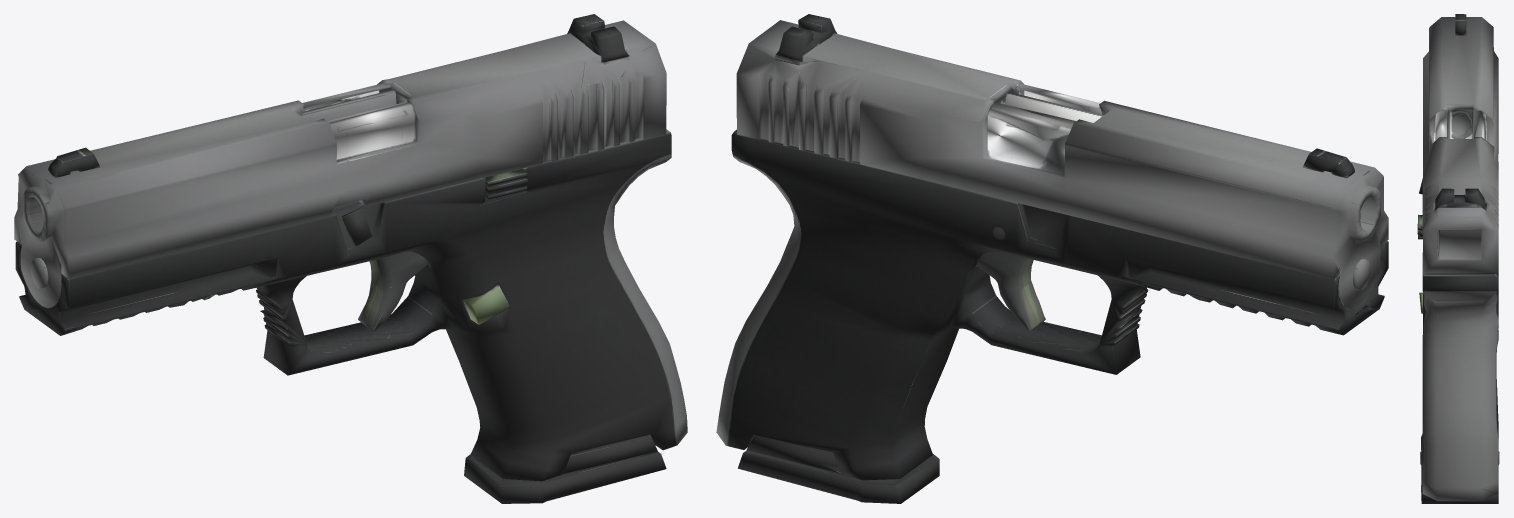
Rendered from pst_rook.glb.
3 views of the same model, side by side, from view 1: azimuth 30°, elevation 25°; view 2: azimuth 150°, elevation 25°; view 3: azimuth 270°, elevation 25° (orthographic). The views are drawn at different scales.
Size of the model in its own units: 0.957 by 0.6279 by 0.1553.
Materials: 1 (1 with a texture image).
